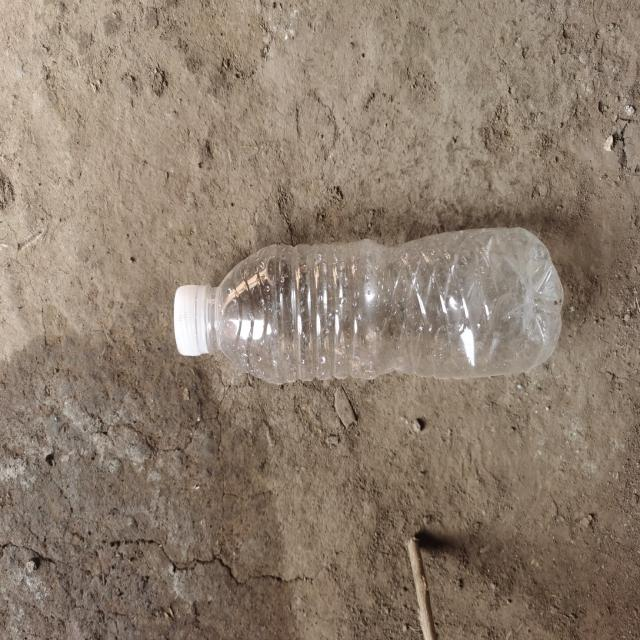plastic: (174, 236, 563, 384)
